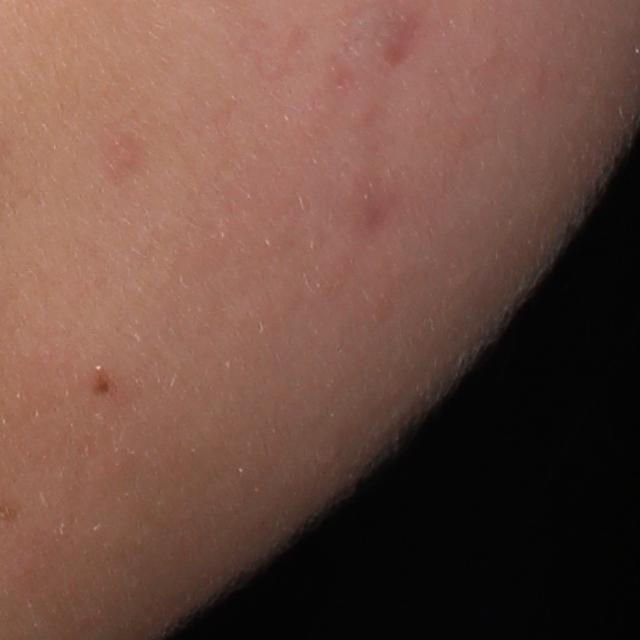nevus: (89, 374, 116, 399)
